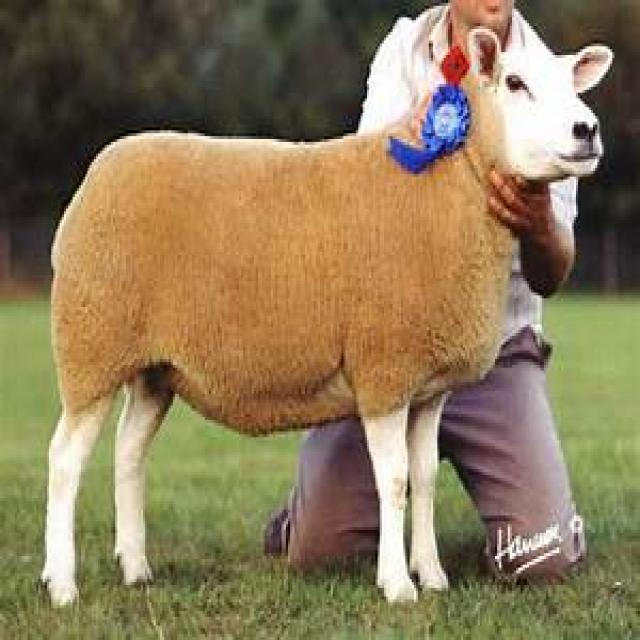animal: (34, 35, 616, 608)
